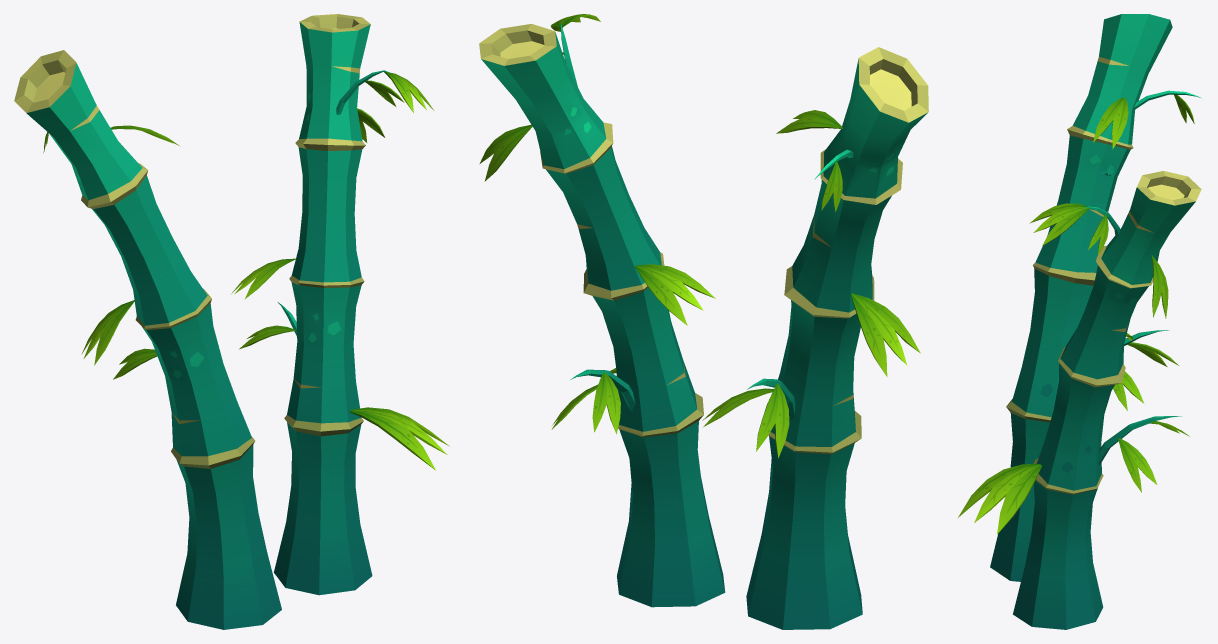
The model's file is bamboo_8.glb.
3 views of the same model, side by side, from view 1: azimuth 30°, elevation 25°; view 2: azimuth 150°, elevation 25°; view 3: azimuth 270°, elevation 25° (orthographic). The views are drawn at different scales.
Visible parts, largest first — view 1: bamboo_8; view 2: bamboo_8; view 3: bamboo_8.
Boxes of the visible parts, bbox=[...] form: bamboo_8: bbox=[14, 14, 449, 629]; bamboo_8: bbox=[479, 14, 928, 629]; bamboo_8: bbox=[958, 14, 1201, 629].
Size of the model in its own units: 1.9 by 2.63 by 1.17.
1 material, 1 textured.
